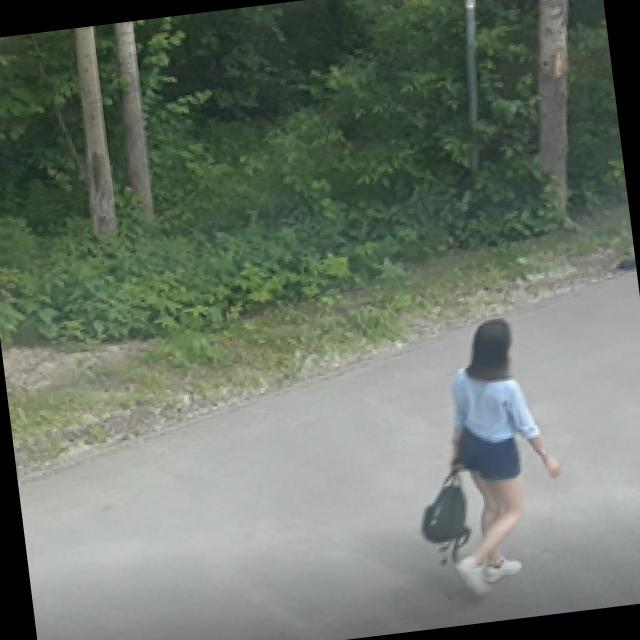person: (399, 308, 574, 601)
